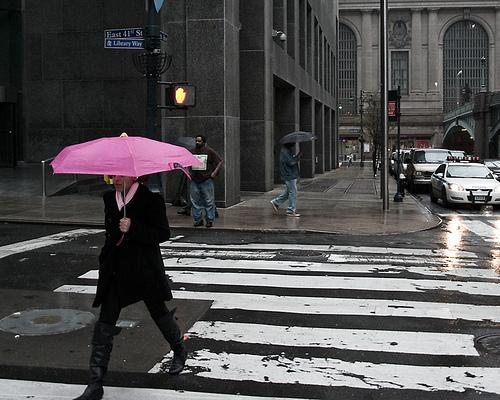person: (70, 173, 187, 400)
